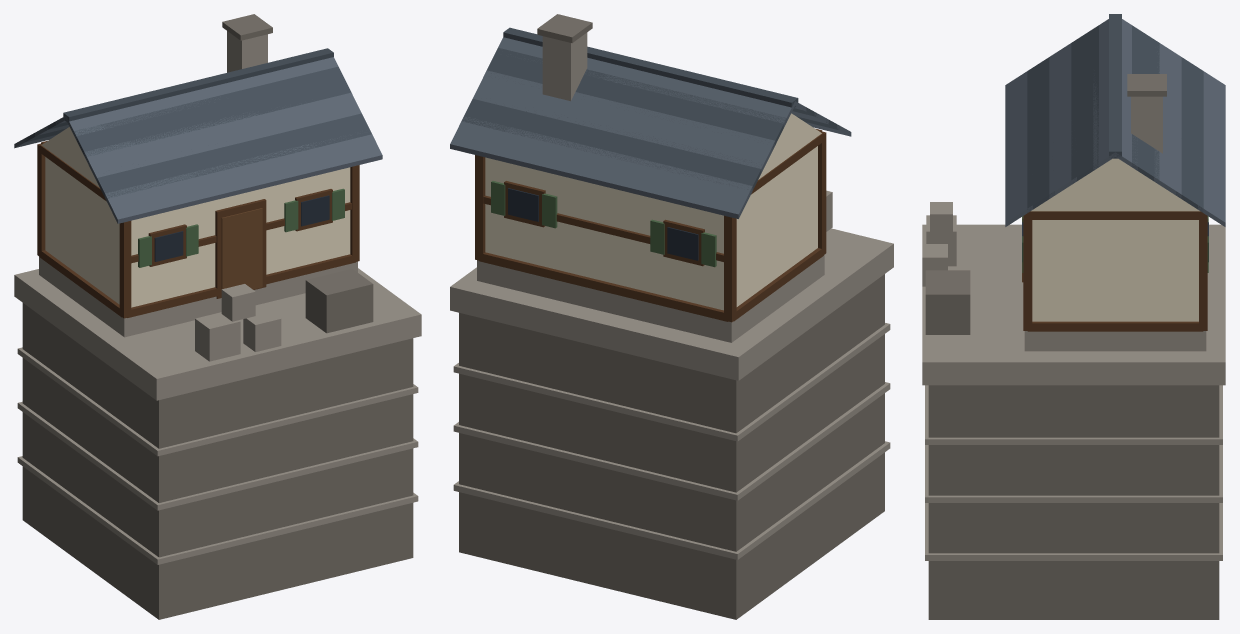
File: stonecutter.glb
The picture shows the model from 3 angles, left to right: view 1: azimuth 30°, elevation 25°; view 2: azimuth 150°, elevation 25°; view 3: azimuth 270°, elevation 25°; orthographic projection. The views are drawn at different scales.
Visible parts, largest first — view 1: stonecutter; view 2: stonecutter; view 3: stonecutter.
Boxes of the visible parts, x1=… form: stonecutter: x1=14, y1=14, x2=421, y2=619; stonecutter: x1=450, y1=14, x2=893, y2=619; stonecutter: x1=922, y1=14, x2=1225, y2=619.
Bounding box in the file's own units: 5.1 × 8.72 × 4.75.
